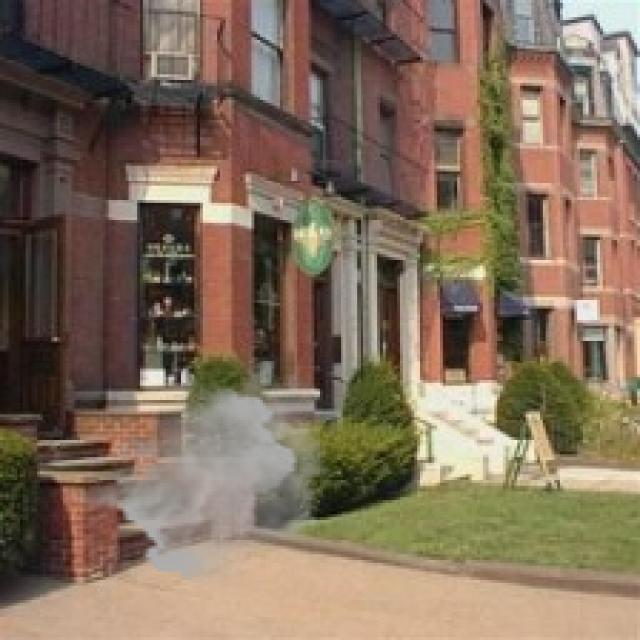Smoke: (71, 354, 332, 586)
